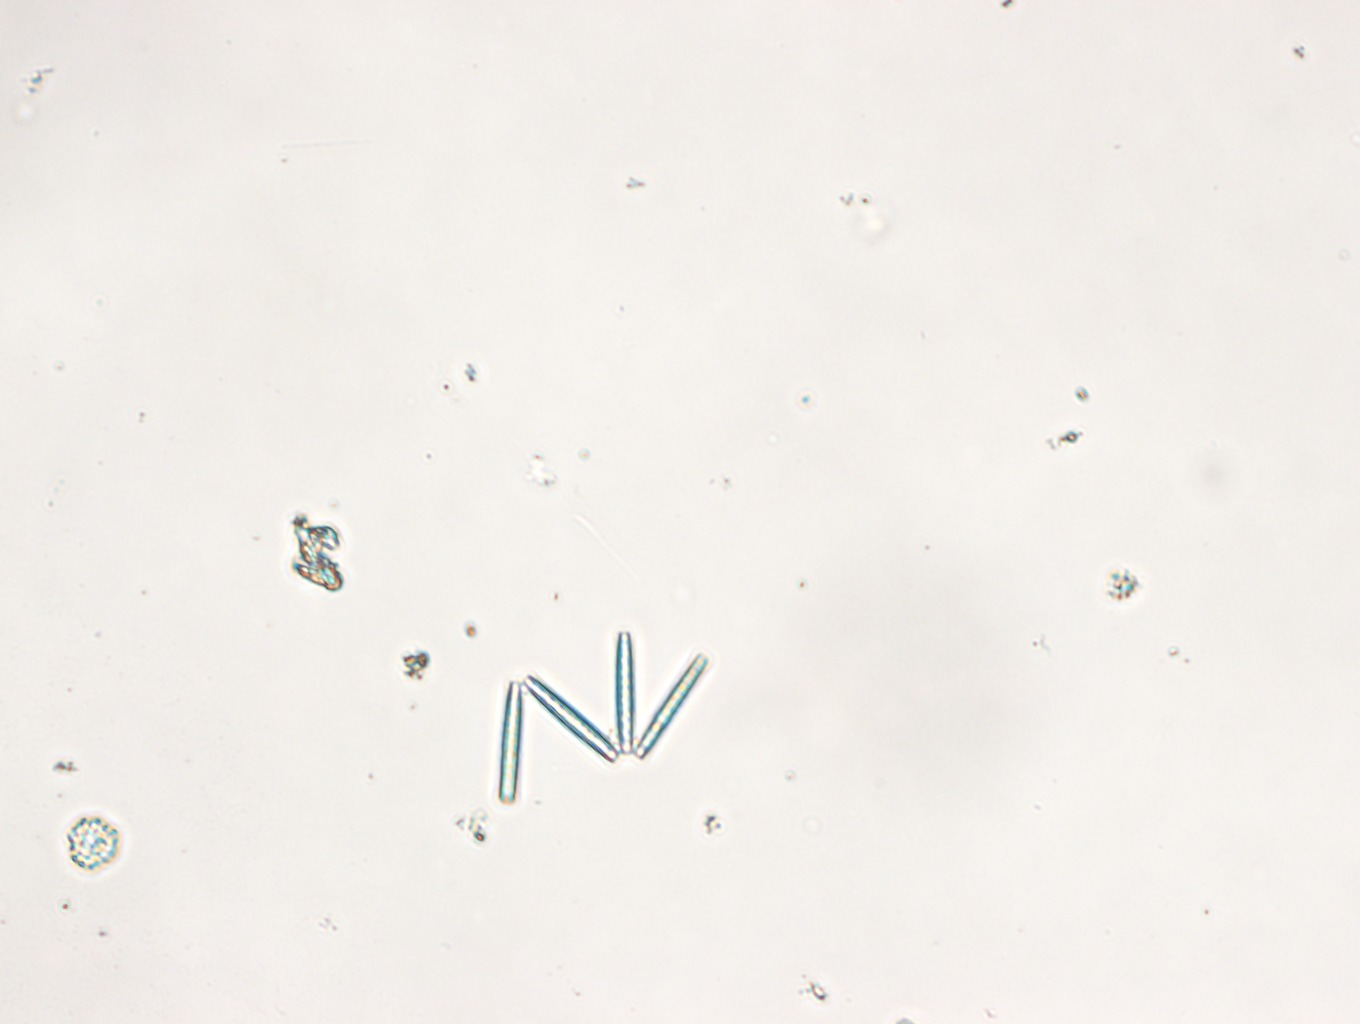thalassionema nitzschioides: (491, 627, 715, 806)
